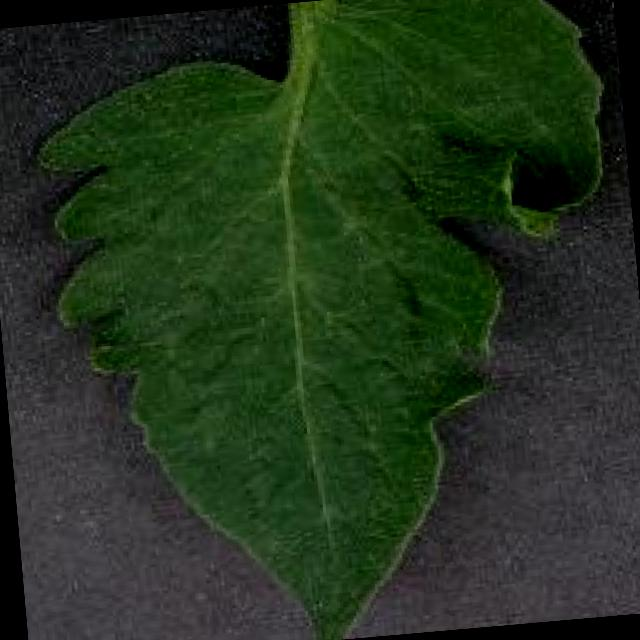healthy: (31, 0, 607, 640)
